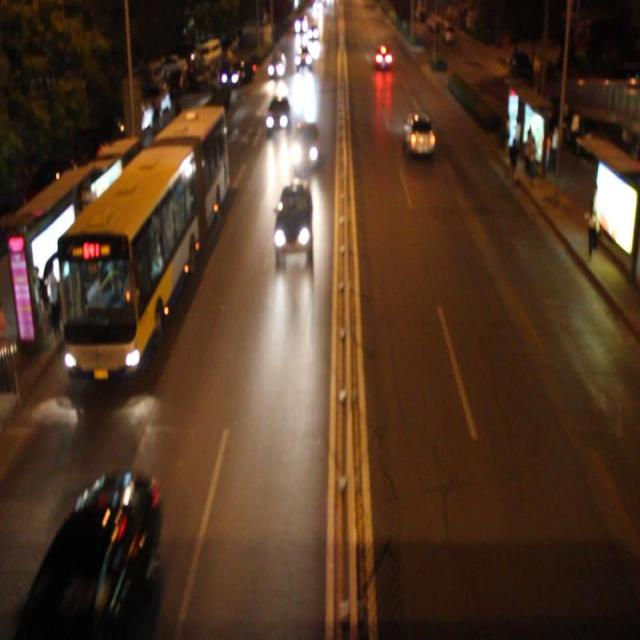car: (29, 475, 164, 640), (272, 181, 314, 255), (290, 118, 321, 170), (403, 109, 436, 156), (264, 92, 290, 134), (266, 51, 287, 82)
van: (54, 102, 219, 376)
